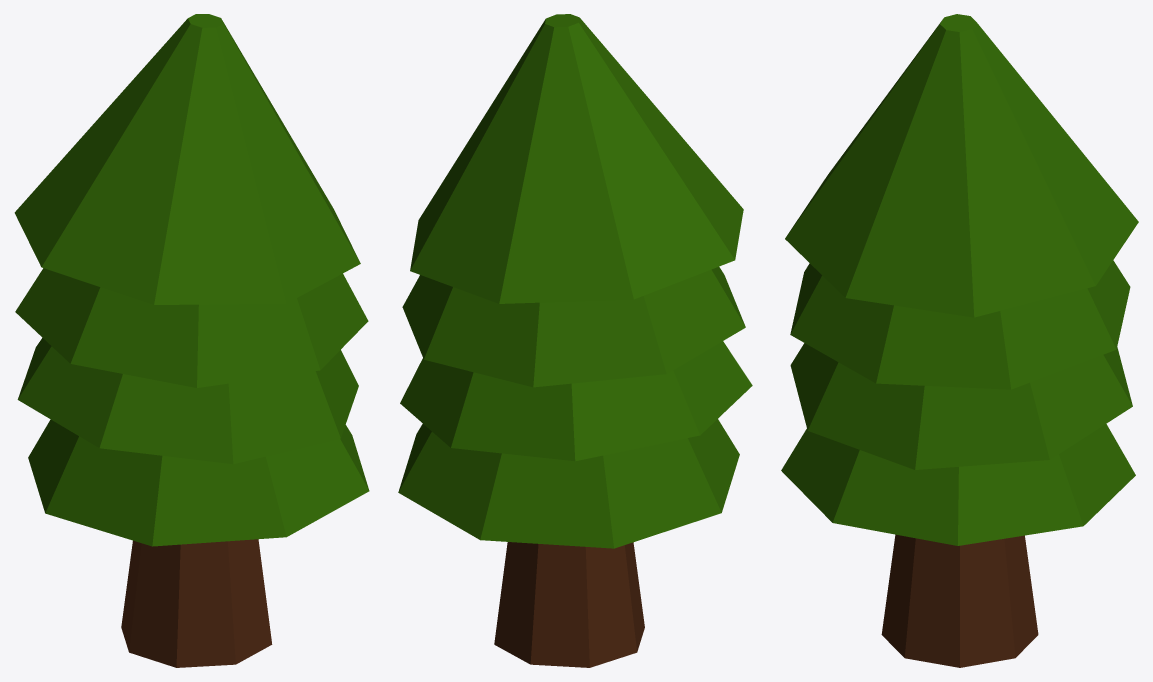
File: tree.dae
3 views of the same model, side by side, from view 1: azimuth 30°, elevation 25°; view 2: azimuth 150°, elevation 25°; view 3: azimuth 270°, elevation 25° (orthographic).
Visible parts, largest first — view 1: Cylinder.004, Cylinder.001, Cylinder.003, Cylinder.002, Cylinder; view 2: Cylinder.004, Cylinder.001, Cylinder.003, Cylinder.002, Cylinder; view 3: Cylinder.004, Cylinder.002, Cylinder.001, Cylinder.003, Cylinder.
Boxes of the visible parts, bbox=[...] form: Cylinder.004: bbox=[14, 14, 360, 304]; Cylinder.001: bbox=[28, 419, 369, 546]; Cylinder.003: bbox=[15, 268, 368, 387]; Cylinder.002: bbox=[17, 338, 358, 464]; Cylinder: bbox=[121, 539, 272, 667]; Cylinder.004: bbox=[410, 14, 743, 303]; Cylinder.001: bbox=[398, 419, 739, 548]; Cylinder.003: bbox=[402, 266, 745, 387]; Cylinder.002: bbox=[400, 341, 752, 461]; Cylinder: bbox=[494, 542, 644, 667]; Cylinder.004: bbox=[785, 14, 1138, 317]; Cylinder.002: bbox=[790, 343, 1132, 469]; Cylinder.001: bbox=[781, 424, 1135, 545]; Cylinder.003: bbox=[790, 260, 1130, 389]; Cylinder: bbox=[881, 534, 1038, 667].
Size of the model in its own units: 1.73 by 1.7 by 3.23.
